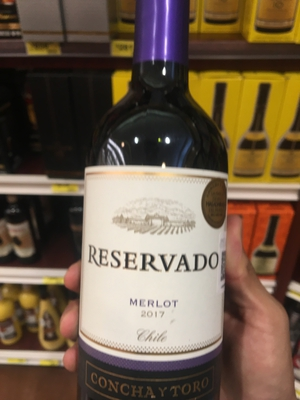reservado merlot: (68, 6, 224, 388)
